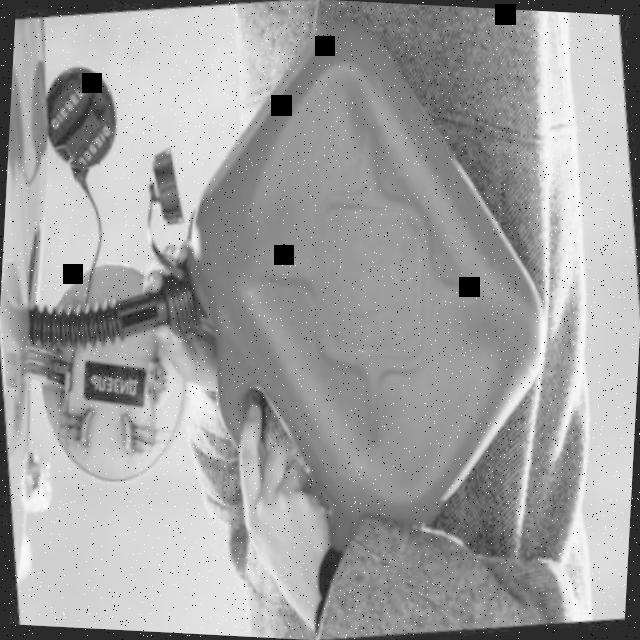chemical_plastic_gallon: (101, 0, 591, 585)
